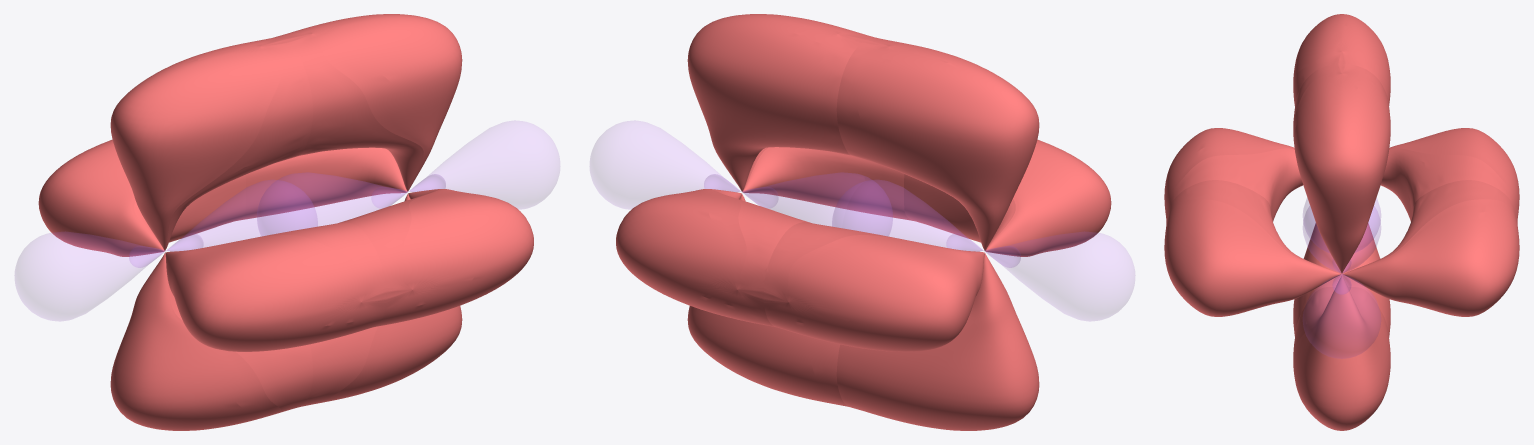
Rendered from s055_4.07_dusik.glb.
3 views of the same model, side by side, from view 1: azimuth 30°, elevation 25°; view 2: azimuth 150°, elevation 25°; view 3: azimuth 270°, elevation 25° (orthographic). The views are drawn at different scales.
Visible parts, largest first — view 1: hybrid.010_Sphere.003 2.001, hybrid.010_Sphere.003 2, hybrid.004_Sphere.001, hybrid.004_Sphere.002, hybrid.004_Sphere, hybrid.004_Sphere.003; view 2: hybrid.010_Sphere.003 2.001, hybrid.010_Sphere.003 2, hybrid.004_Sphere.001, hybrid.004_Sphere.002, hybrid.004_Sphere, hybrid.004_Sphere.003; view 3: hybrid.010_Sphere.003 2, hybrid.010_Sphere.003 2.001, hybrid.004_Sphere.002, hybrid.004_Sphere, hybrid.004_Sphere.003.
Boxes of the visible parts, x1,y1,x2,y2 form: hybrid.010_Sphere.003 2.001: (110,14,462,430); hybrid.010_Sphere.003 2: (38,139,533,351); hybrid.004_Sphere.001: (15,232,202,320); hybrid.004_Sphere.002: (372,121,559,208); hybrid.004_Sphere: (257,172,445,235); hybrid.004_Sphere.003: (129,180,317,267); hybrid.010_Sphere.003 2.001: (687,14,1039,430); hybrid.010_Sphere.003 2: (616,139,1111,351); hybrid.004_Sphere.001: (947,232,1134,320); hybrid.004_Sphere.002: (590,121,777,208); hybrid.004_Sphere: (704,172,892,235); hybrid.004_Sphere.003: (832,180,1020,267); hybrid.010_Sphere.003 2: (1164,128,1519,316); hybrid.010_Sphere.003 2.001: (1293,14,1390,430); hybrid.004_Sphere.002: (1303,260,1380,358); hybrid.004_Sphere: (1303,206,1380,293); hybrid.004_Sphere.003: (1303,198,1380,252).
Size of the model in its own units: 9.62 by 6.32 by 6.32.
